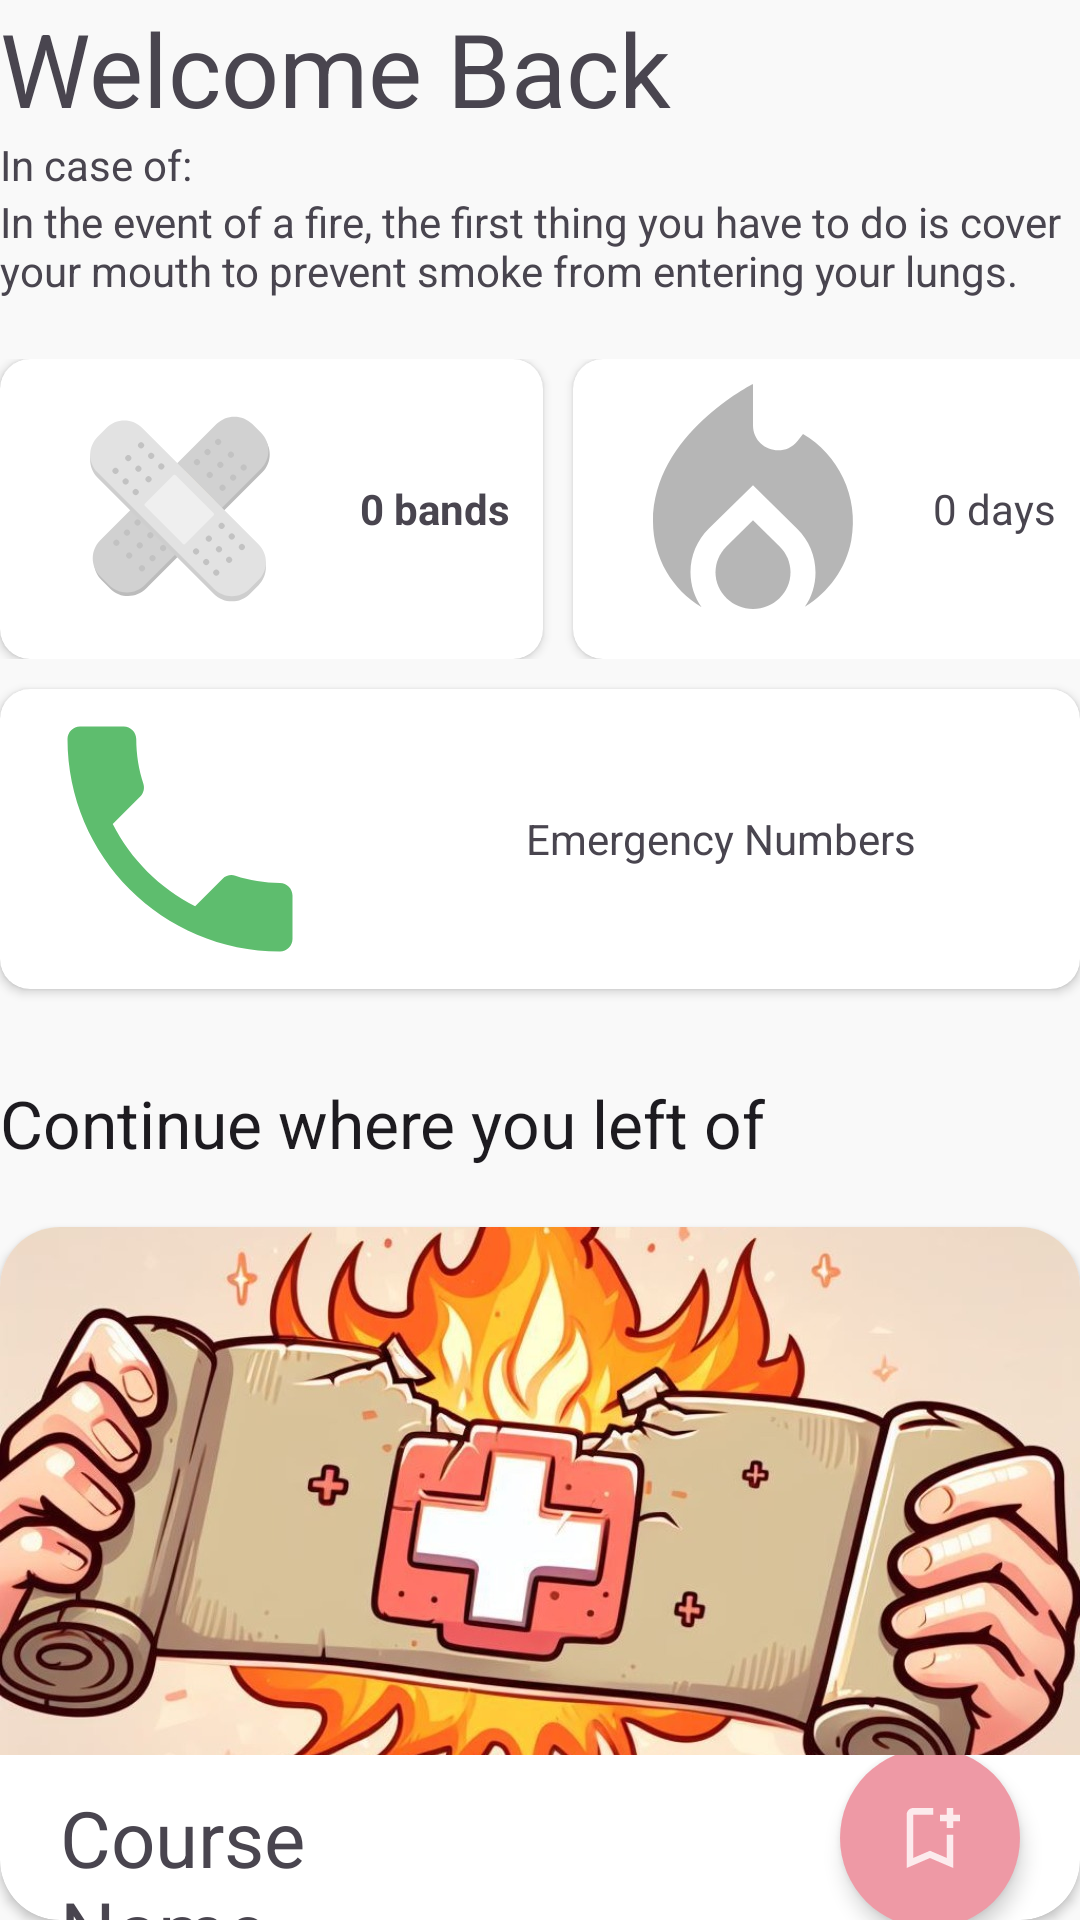

Named icons in this screenshot (1080 × 1920) and their centers, [x,y]:
phone: [146,822]
